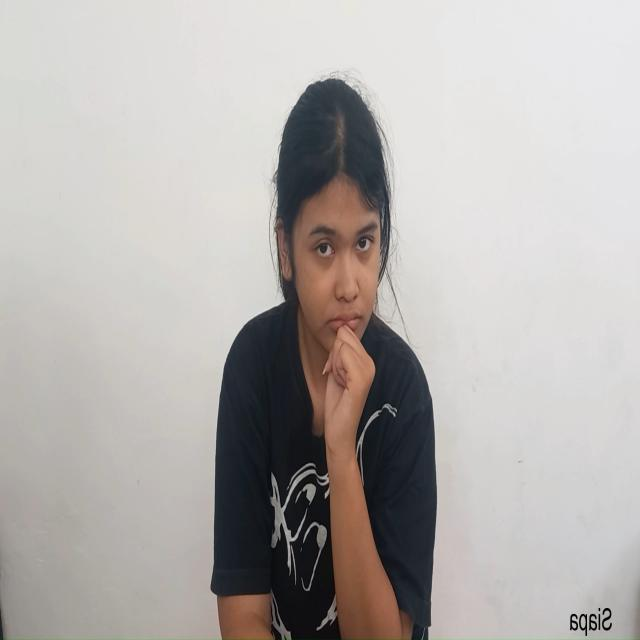Siapa -BISINDO-: (262, 68, 399, 471)
